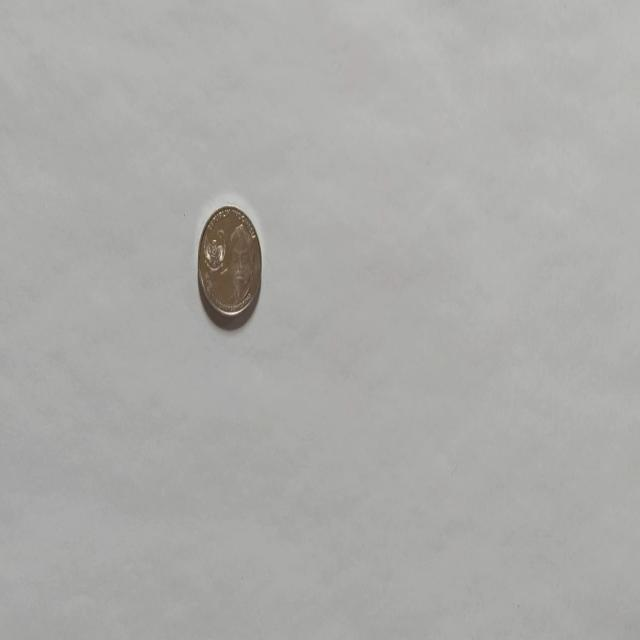dua ratus rupiah: (196, 202, 262, 326)
